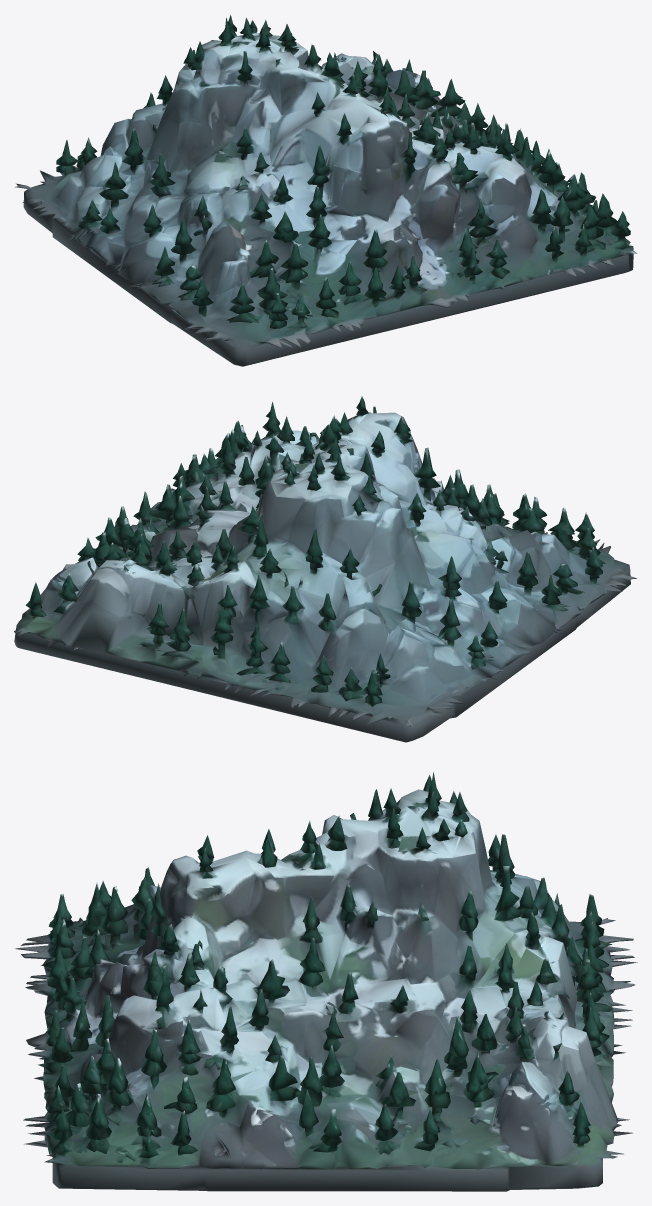
The model's file is env_observatory_pineridge.fbx.
3 renders of one model, top to bottom at view 1: azimuth 30°, elevation 25°; view 2: azimuth 150°, elevation 25°; view 3: azimuth 270°, elevation 25°, orthographic. The views are drawn at different scales.
Parts seen in each view (by area): view 1: env_observatory_pineridge_LOD0; view 2: env_observatory_pineridge_LOD0; view 3: env_observatory_pineridge_LOD0.
Part boxes in pixels (left/top/right/bottom): env_observatory_pineridge_LOD0: left=15, top=14, right=637, bottom=366; env_observatory_pineridge_LOD0: left=14, top=396, right=636, bottom=742; env_observatory_pineridge_LOD0: left=15, top=771, right=637, bottom=1191.
Size of what is drawn, in the model's own units: 0.9799 by 0.454 by 0.9814.
